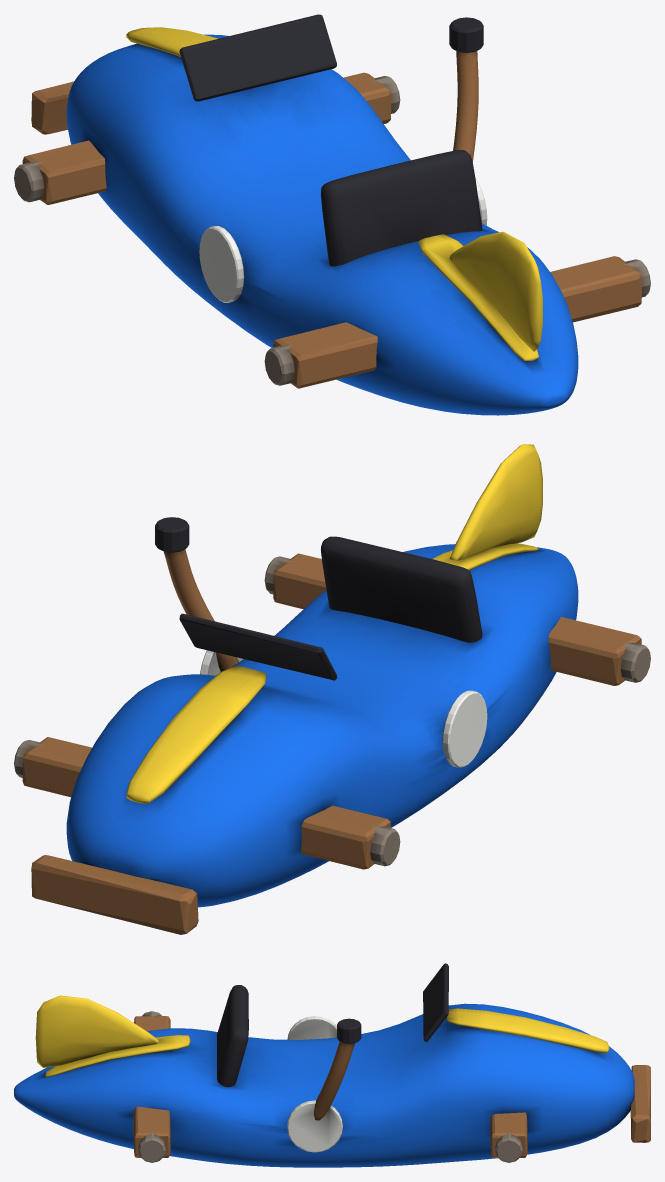
The model's file is kart_soapbox.glb.
3 renders of one model, top to bottom at view 1: azimuth 30°, elevation 25°; view 2: azimuth 150°, elevation 25°; view 3: azimuth 270°, elevation 25°, orthographic. The views are drawn at different scales.
Visible parts, largest first — view 1: Paint_body, Trim_seatback, Wood_axle.001, Trim_screen, Accent_fin, Wood_axle, Accent_tailstripe, Plate_side, Wood_brake, Wood_bumper, Accent_stripe, Trim_brake_knob (+2 smaller); view 2: Paint_body, Trim_seatback, Wood_bumper, Accent_stripe, Wood_axle, Wood_axle.001, Accent_fin, Trim_screen, Plate_side, Wood_brake, Trim_brake_knob, Accent_tailstripe (+2 smaller); view 3: Paint_body, Accent_fin, Accent_stripe, Trim_seatback, Plate_side.001, Wood_axle.001, Wood_bumper, Trim_screen, Accent_tailstripe, Wood_brake, Wood_axle, Plate_side (+3 smaller).
Part boxes in pixels (box(x1,y1,x2,y2)): Paint_body: box(66, 34, 578, 415); Trim_seatback: box(320, 150, 482, 266); Wood_axle.001: box(273, 256, 642, 388); Trim_screen: box(179, 14, 336, 101); Accent_fin: box(449, 231, 542, 351); Wood_axle: box(22, 72, 391, 204); Accent_tailstripe: box(418, 234, 538, 361); Plate_side: box(199, 226, 244, 302); Wood_brake: box(453, 51, 478, 161); Wood_bumper: box(31, 81, 73, 134); Accent_stripe: box(126, 27, 218, 57); Trim_brake_knob: box(449, 17, 483, 52); Paint_body: box(66, 544, 578, 907); Trim_seatback: box(321, 536, 482, 642); Wood_bumper: box(31, 855, 198, 934); Accent_stripe: box(126, 666, 266, 803); Wood_axle: box(22, 737, 390, 869); Wood_axle.001: box(273, 553, 641, 685); Accent_fin: box(449, 444, 542, 560); Trim_screen: box(179, 613, 337, 680); Plate_side: box(442, 690, 487, 767); Wood_brake: box(163, 549, 238, 671); Trim_brake_knob: box(155, 517, 189, 552); Accent_tailstripe: box(432, 543, 538, 570); Paint_body: box(14, 1003, 634, 1167); Accent_fin: box(35, 995, 158, 1067); Accent_stripe: box(446, 1008, 609, 1053); Trim_seatback: box(217, 985, 248, 1086); Plate_side.001: box(287, 1100, 342, 1152); Wood_axle.001: box(133, 1016, 170, 1157); Wood_bumper: box(630, 1065, 650, 1142); Trim_screen: box(423, 963, 448, 1041); Accent_tailstripe: box(45, 1035, 190, 1077); Wood_brake: box(313, 1041, 354, 1120); Wood_axle: box(490, 1112, 527, 1157); Plate_side: box(287, 1016, 336, 1039).
Size of the model in its own units: 0.9793 by 0.6087 by 2.05.
